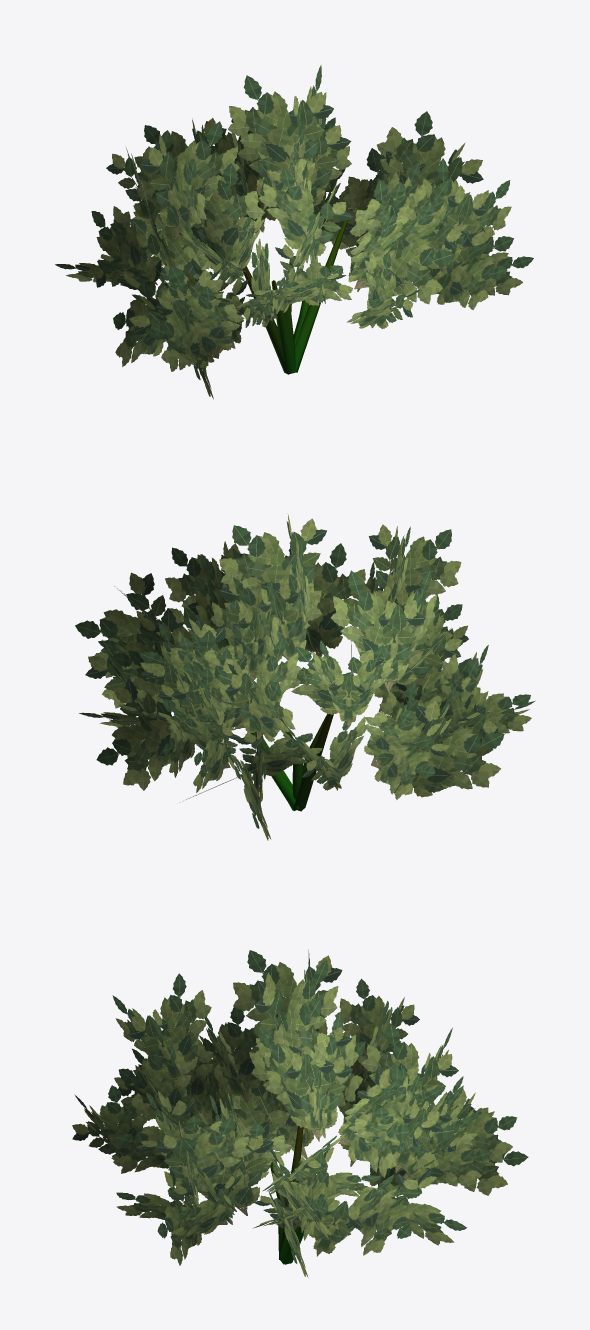
File: SM_Bush_Broadleaf_Round.fbx
The picture shows the model from 3 angles, top to bottom: view 1: azimuth 30°, elevation 25°; view 2: azimuth 150°, elevation 25°; view 3: azimuth 270°, elevation 25°; orthographic projection.
Visible parts, largest first — view 1: SM_Bush_Broadleaf_Round; view 2: SM_Bush_Broadleaf_Round; view 3: SM_Bush_Broadleaf_Round.
Part boxes in pixels (x1=…): SM_Bush_Broadleaf_Round: x1=55, y1=65, x2=533, y2=399; SM_Bush_Broadleaf_Round: x1=75, y1=513, x2=535, y2=840; SM_Bush_Broadleaf_Round: x1=72, y1=949, x2=528, y2=1277.
Size of the model in its own units: 2.68 by 1.79 by 2.69.
Materials: 2 (1 with a texture image).
